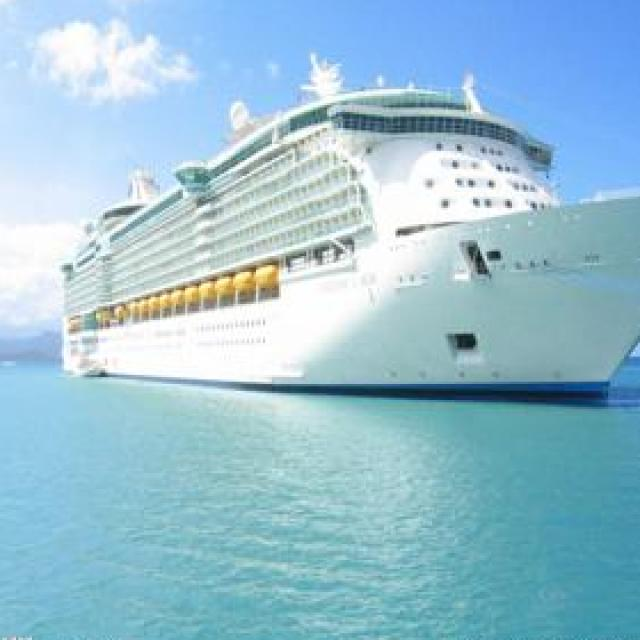passenger ship: (50, 62, 640, 416)
